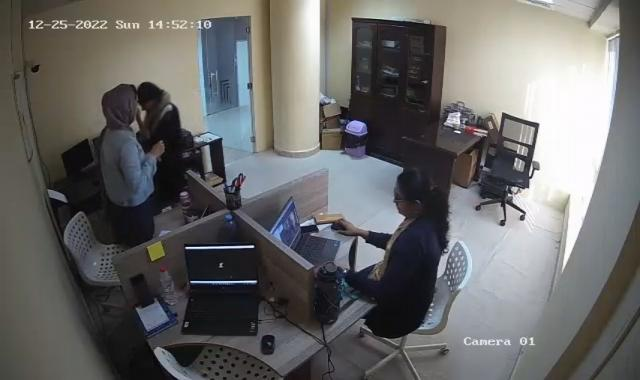no_hairnet: (391, 170, 430, 217), (102, 85, 138, 124), (140, 81, 168, 118)
